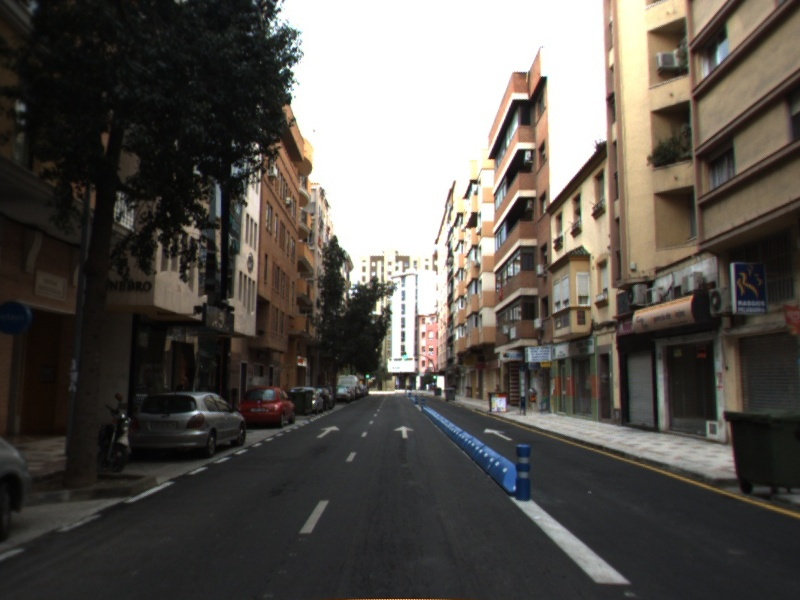STRAIGHT: (482, 426, 514, 442), (315, 424, 341, 439), (392, 424, 416, 440)
